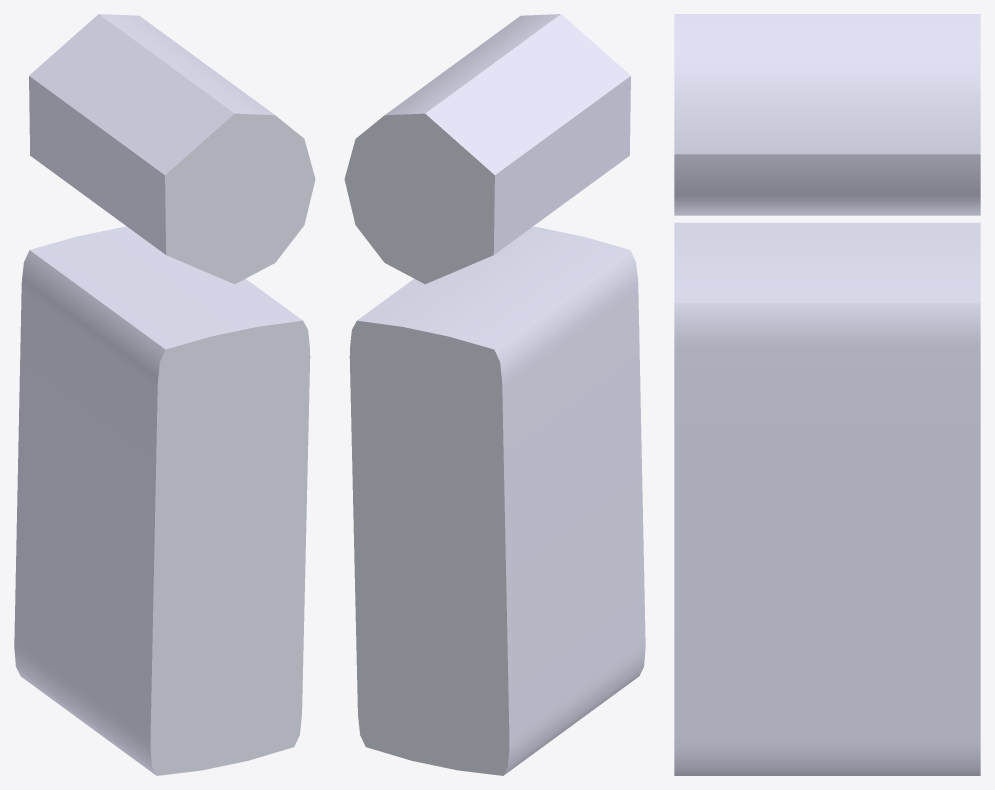
Rendered from I_Zyzol_Grey.glb.
The picture shows the model from 3 angles, left to right: view 1: azimuth 30°, elevation 25°; view 2: azimuth 150°, elevation 25°; view 3: azimuth 270°, elevation 25°; orthographic projection. The views are drawn at different scales.
Parts seen in each view (by area): view 1: i_Zyzol_Grey; view 2: i_Zyzol_Grey; view 3: i_Zyzol_Grey.
Boxes of the visible parts, left/top/right/bottom form: i_Zyzol_Grey: left=14, top=14, right=315, bottom=775; i_Zyzol_Grey: left=344, top=14, right=645, bottom=775; i_Zyzol_Grey: left=674, top=14, right=980, bottom=775.
Size of what is drawn, in the model's own units: 0.0315 by 0.1187 by 0.045.
Materials: 2 (2 with a texture image).
